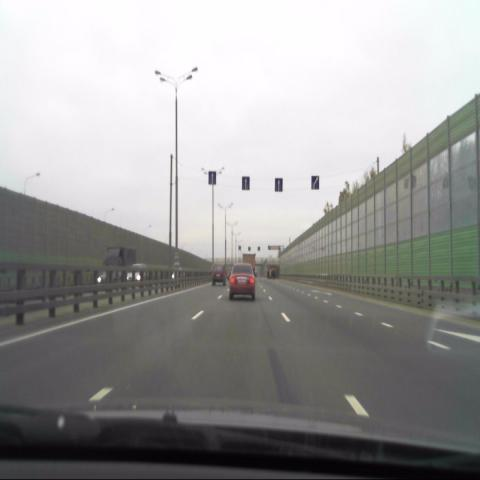5_15_2: (274, 177, 282, 192), (242, 176, 250, 190), (311, 176, 319, 190), (208, 171, 216, 184)
